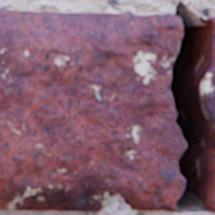broken_brick: (0, 10, 186, 210), (198, 16, 214, 141), (209, 149, 214, 209)
crack: (169, 1, 214, 213)
